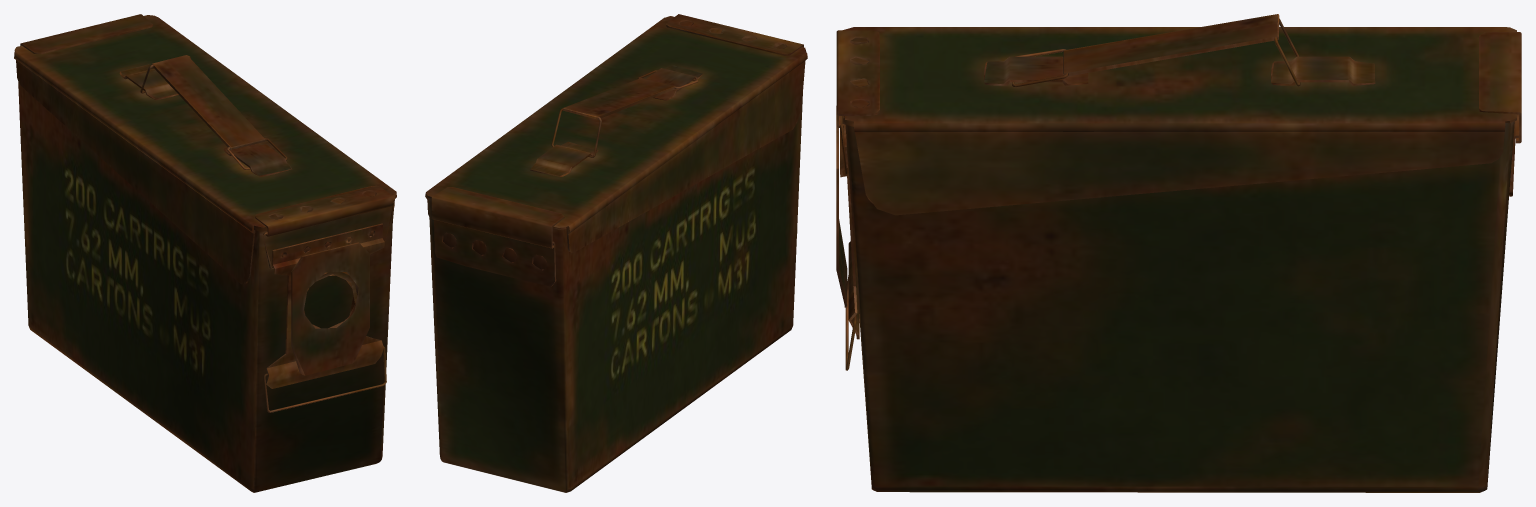
File: ammo_box.glb
3 views of the same model, side by side, from view 1: azimuth 30°, elevation 25°; view 2: azimuth 150°, elevation 25°; view 3: azimuth 270°, elevation 25° (orthographic). The views are drawn at different scales.
Visible parts, largest first — view 1: ammo_box, ammo_box_handle, ammo_box_latch; view 2: ammo_box, ammo_box_handle; view 3: ammo_box, ammo_box_handle.
Part boxes in pixels (x1,y1,x2,y2): ammo_box: (14,14,396,492); ammo_box_handle: (151,55,265,149); ammo_box_latch: (263,346,386,412); ammo_box: (425,14,807,492); ammo_box_handle: (563,78,675,119); ammo_box: (836,27,1521,492); ammo_box_handle: (1063,14,1279,76).
Bounding box in the file's own units: 0.0865 × 0.1773 × 0.2578.
5 materials, 5 textured.
